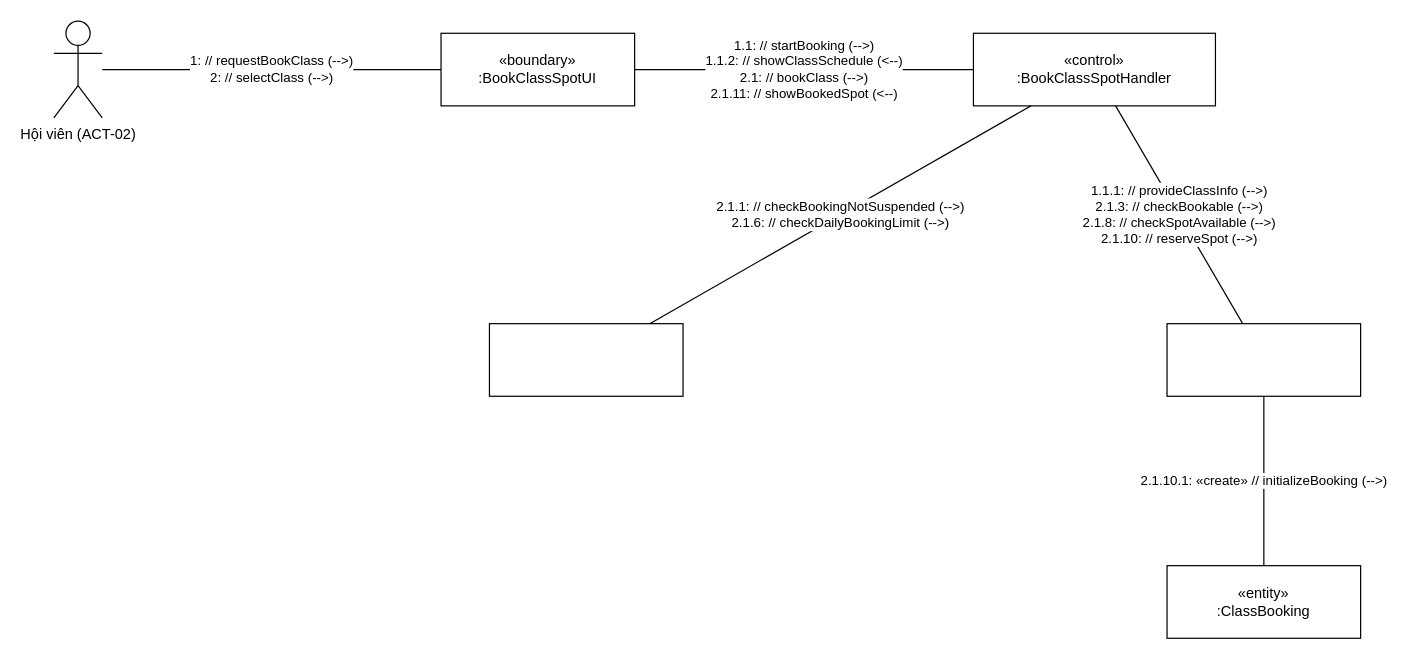
This 1408x659 diagram has some shape labels left out. Here are the shapes that lost their labels. From the top down, the centre of each, then its label:
At pixel 585 359: "«entity» :Member".
At pixel 1263 359: "«entity» :GroupClass".
